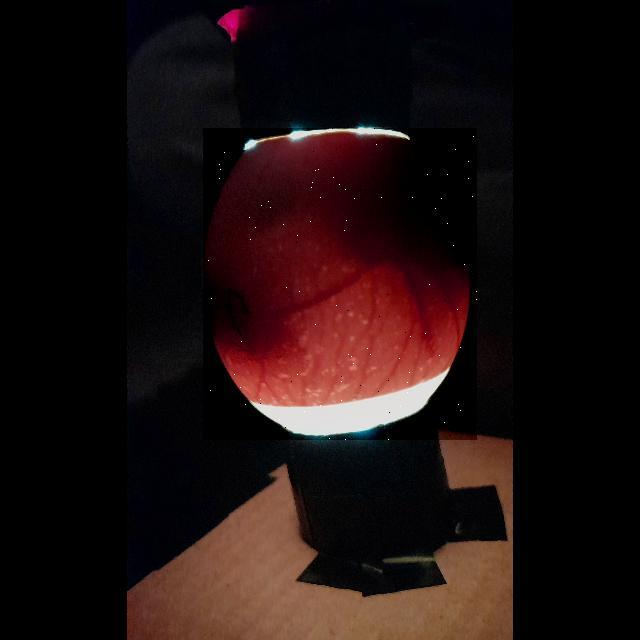Fertile: (203, 128, 477, 440)
